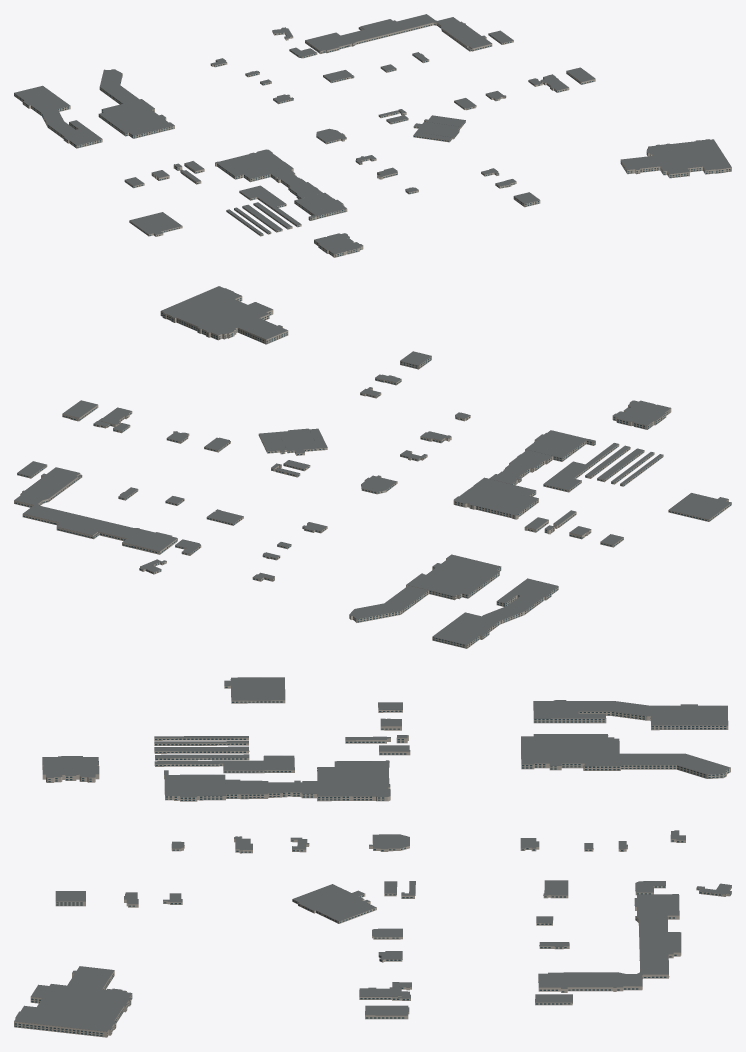
The picture shows the model from 3 angles, top to bottom: view 1: azimuth 30°, elevation 25°; view 2: azimuth 150°, elevation 25°; view 3: azimuth 270°, elevation 25°; orthographic projection. The views are drawn at different scales.
Parts seen in each view (by area): view 1: Buildings (2, -1) Roof membrane, Buildings (2, -1) Masonry brick, Buildings (2, -1) Architectural tinted glass; view 2: Buildings (2, -1) Roof membrane, Buildings (2, -1) Masonry brick, Buildings (2, -1) Architectural tinted glass; view 3: Buildings (2, -1) Roof membrane, Buildings (2, -1) Masonry brick, Buildings (2, -1) Architectural tinted glass, Buildings (2, -1) Metal coping.
Boxes of the visible parts, left/top/right/bottom form: Buildings (2, -1) Roof membrane: left=14, top=14, right=731, bottom=254; Buildings (2, -1) Masonry brick: left=14, top=22, right=731, bottom=257; Buildings (2, -1) Architectural tinted glass: left=14, top=24, right=730, bottom=257; Buildings (2, -1) Roof membrane: left=14, top=286, right=731, bottom=644; Buildings (2, -1) Masonry brick: left=14, top=296, right=731, bottom=648; Buildings (2, -1) Architectural tinted glass: left=15, top=298, right=730, bottom=647; Buildings (2, -1) Roof membrane: left=14, top=677, right=731, bottom=1031; Buildings (2, -1) Masonry brick: left=14, top=685, right=731, bottom=1037; Buildings (2, -1) Architectural tinted glass: left=14, top=679, right=731, bottom=1036; Buildings (2, -1) Metal coping: left=16, top=677, right=731, bottom=1031.
Size of the model in its own units: 1045 by 10.81 by 893.
